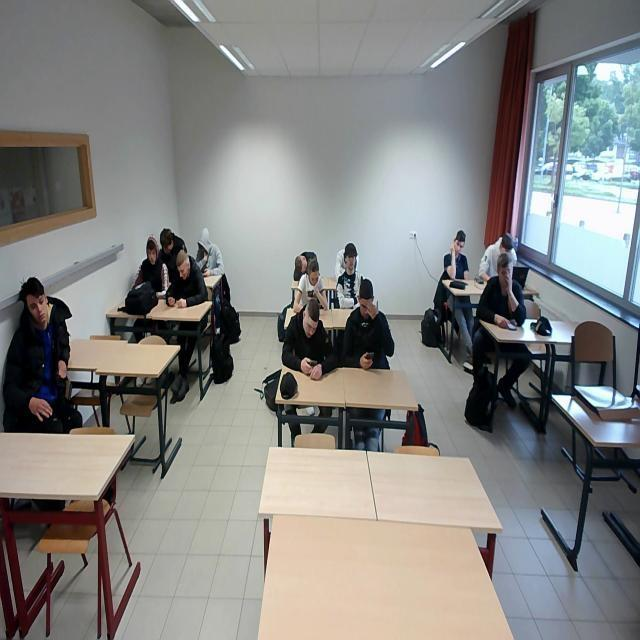phone_use: (341, 278, 392, 367), (281, 298, 335, 378), (165, 250, 205, 304), (195, 227, 222, 274)
